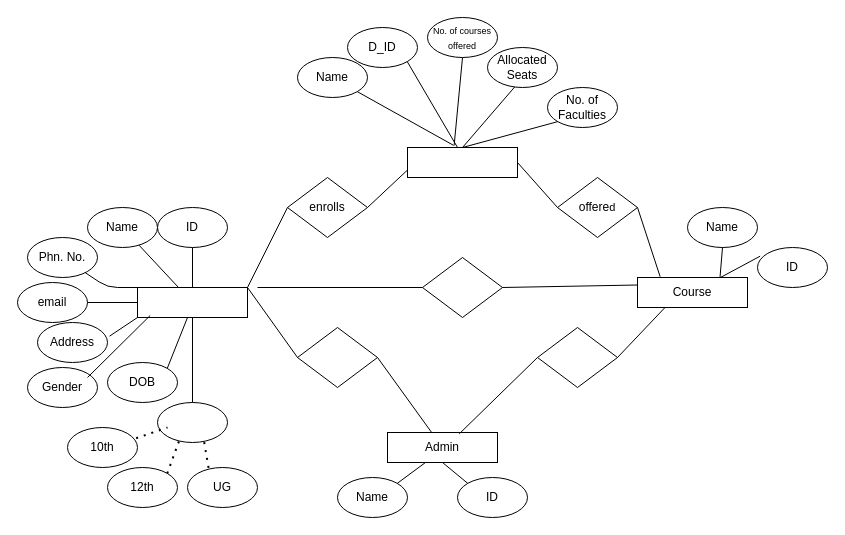
Some shapes in this 845 by 535 pixel diagram are drawn without their labels. Here are the shapes that lost their labels. From the top down, the centre of each, then its label:
At (x=462, y=162): "Department".
At (x=192, y=302): "Enrollee".
At (x=462, y=287): "chooses".
At (x=337, y=357): "Adds".
At (x=577, y=357): "allots".
At (x=192, y=422): "Academic details".
